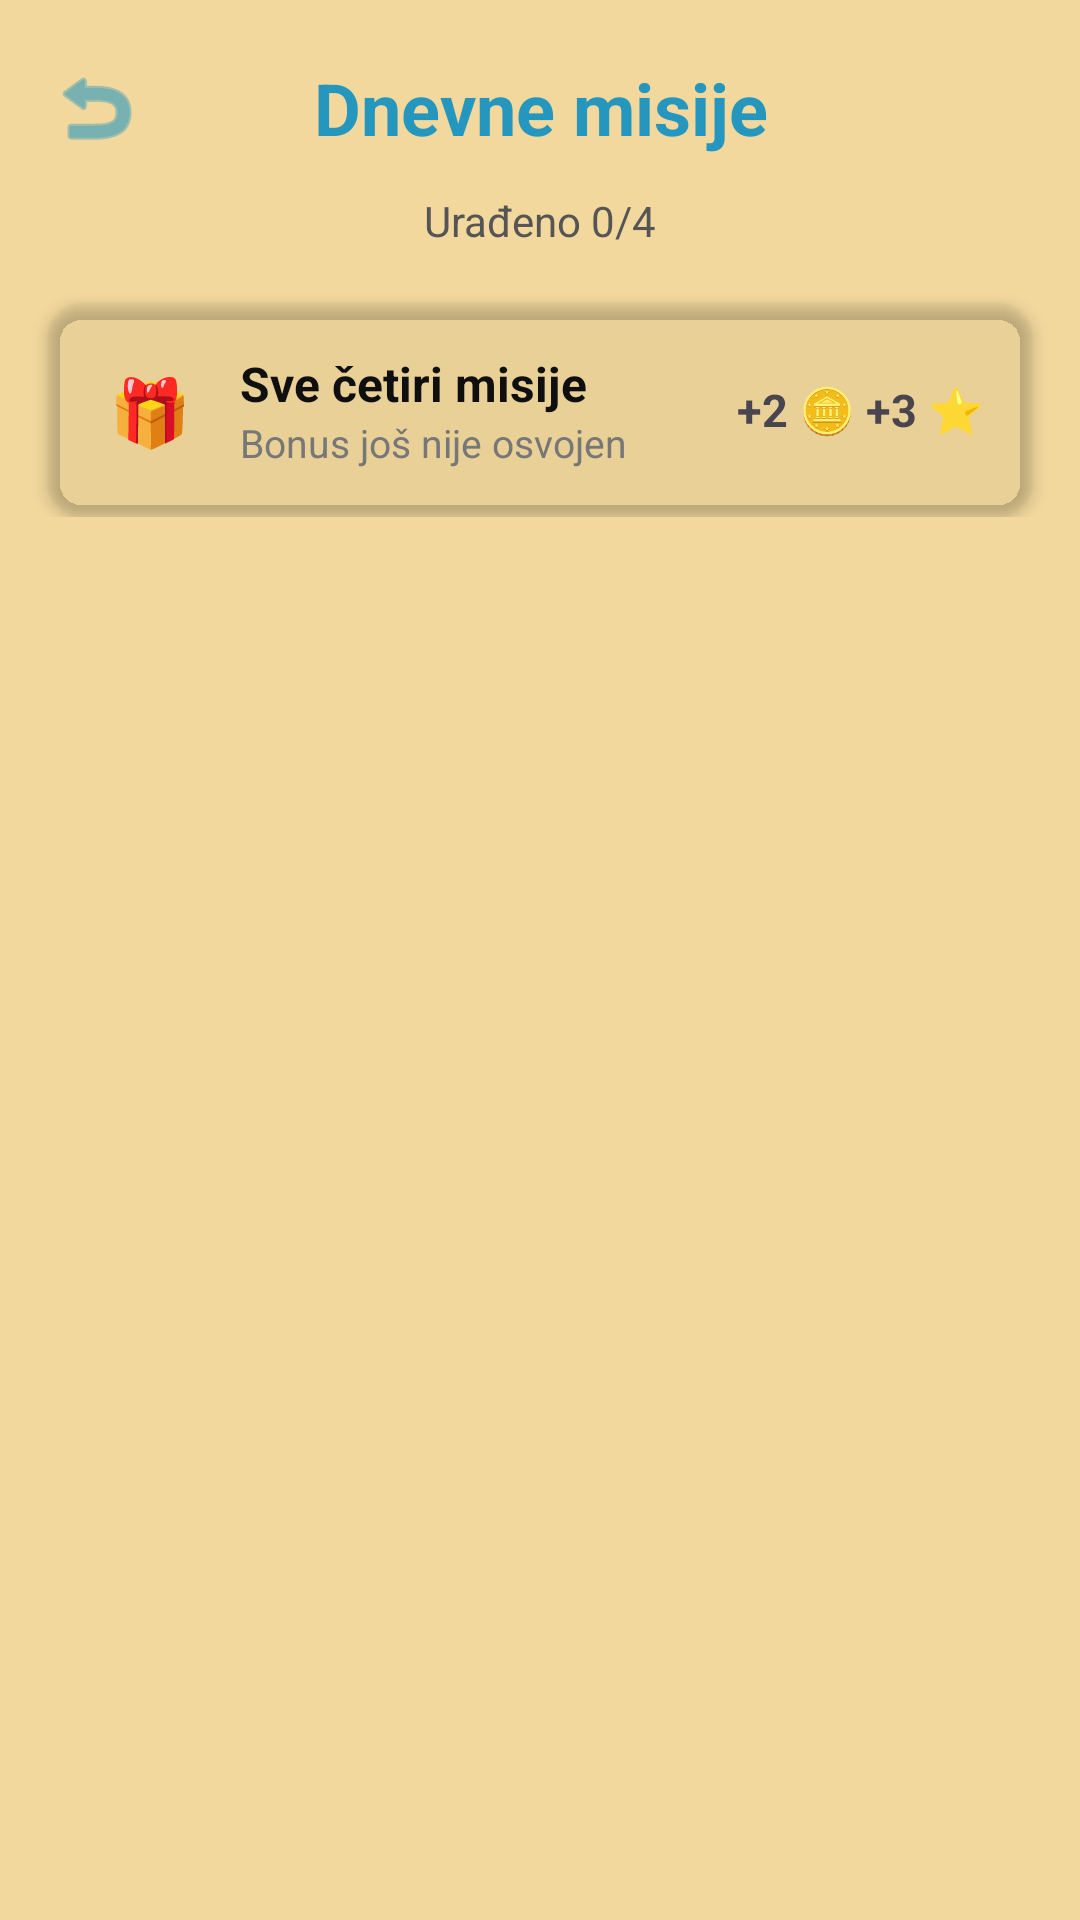

Screen size 1080×1920. Icon name, then its center in pixels as (x,y):
Nazad: (97,108)
